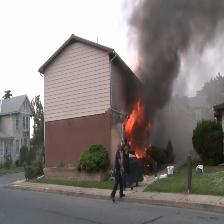fire: (114, 91, 161, 173)
smoke: (121, 0, 224, 96)
